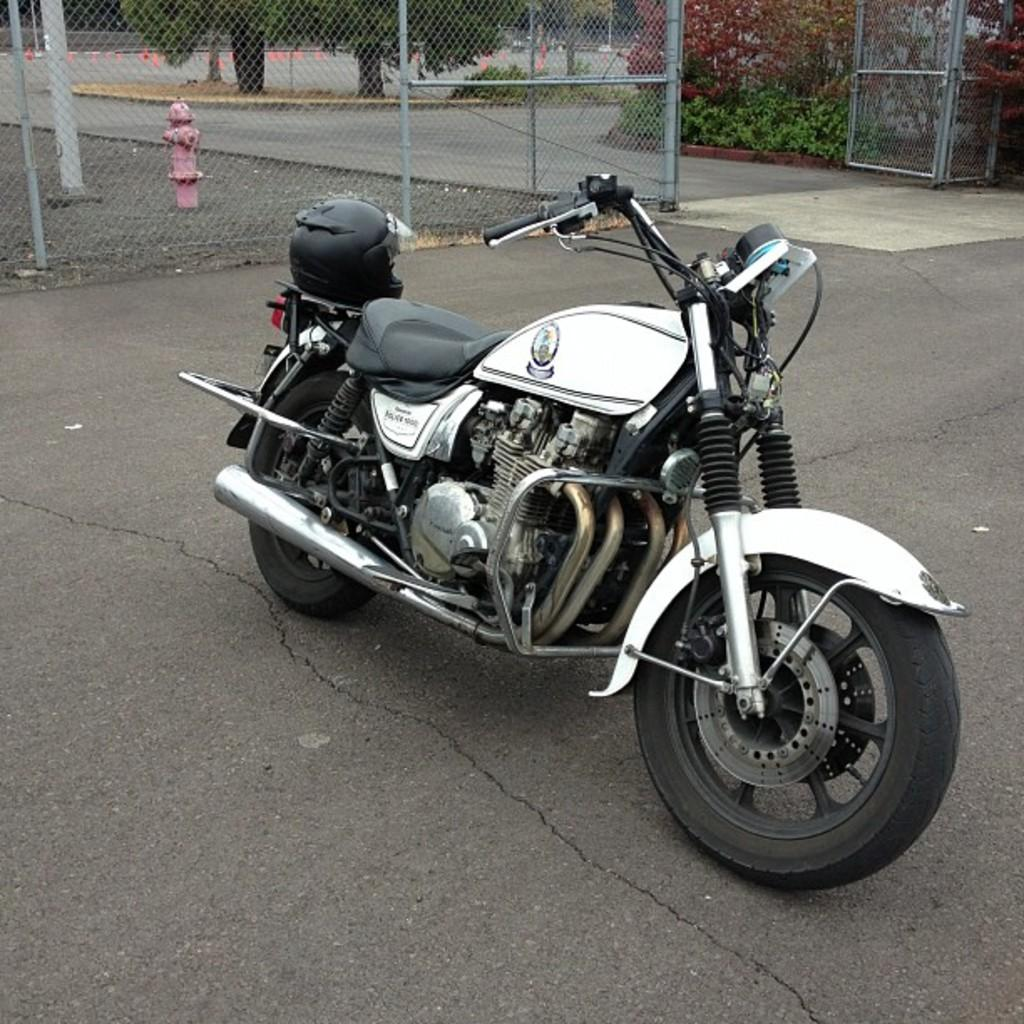helmet: (288, 199, 418, 308)
